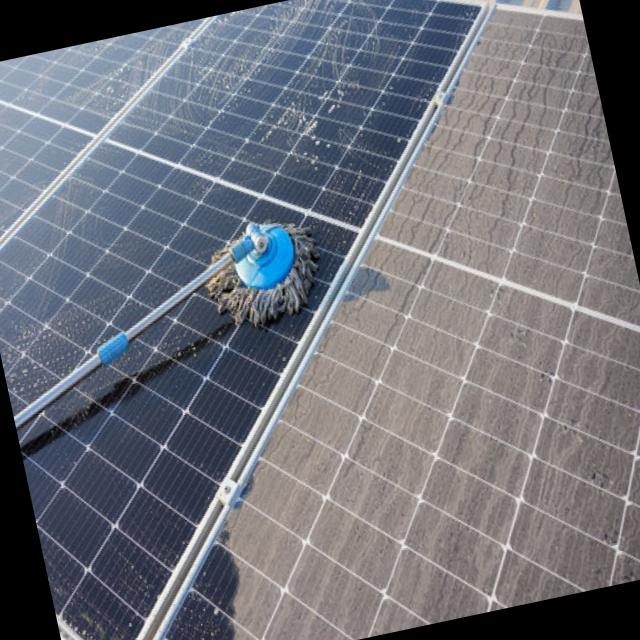faulty: (0, 0, 475, 640), (164, 17, 640, 640)
